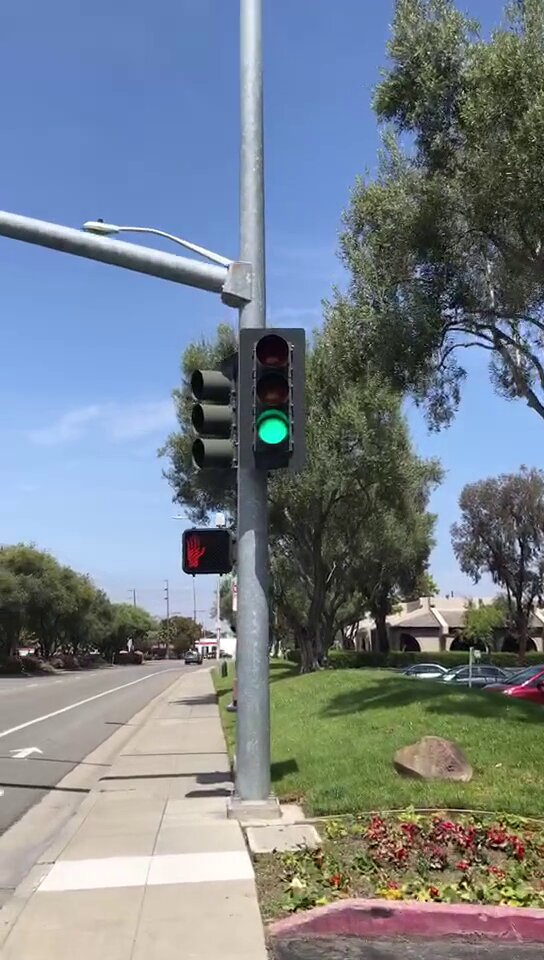green_light: (238, 328, 304, 467)
